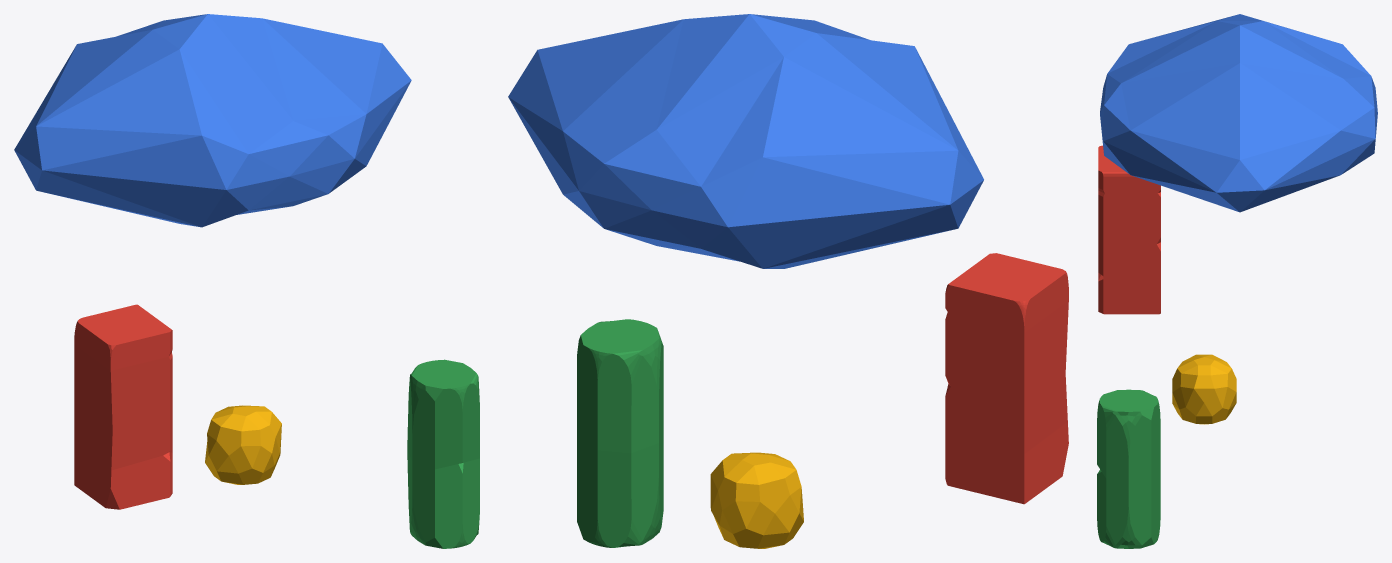
Rendered from kutsal taslar.fbx.
3 views of the same model, side by side, from view 1: azimuth 30°, elevation 25°; view 2: azimuth 150°, elevation 25°; view 3: azimuth 270°, elevation 25° (orthographic). The views are drawn at different scales.
Parts seen in each view (by area): view 1: blue, red, green, yellow; view 2: blue, red, green, yellow; view 3: blue, green, red, yellow.
Part boxes in pixels (x1,y1,x2,y2): blue: [14, 14, 411, 227]; red: [74, 304, 172, 509]; green: [407, 359, 479, 548]; yellow: [205, 405, 281, 484]; blue: [508, 14, 983, 268]; red: [945, 253, 1068, 504]; green: [577, 319, 663, 547]; yellow: [710, 452, 803, 548]; blue: [1100, 14, 1377, 212]; green: [1097, 389, 1160, 548]; red: [1098, 145, 1160, 314]; yellow: [1172, 354, 1236, 424].
Bounding box in the file's own units: 391 × 502 × 290.
